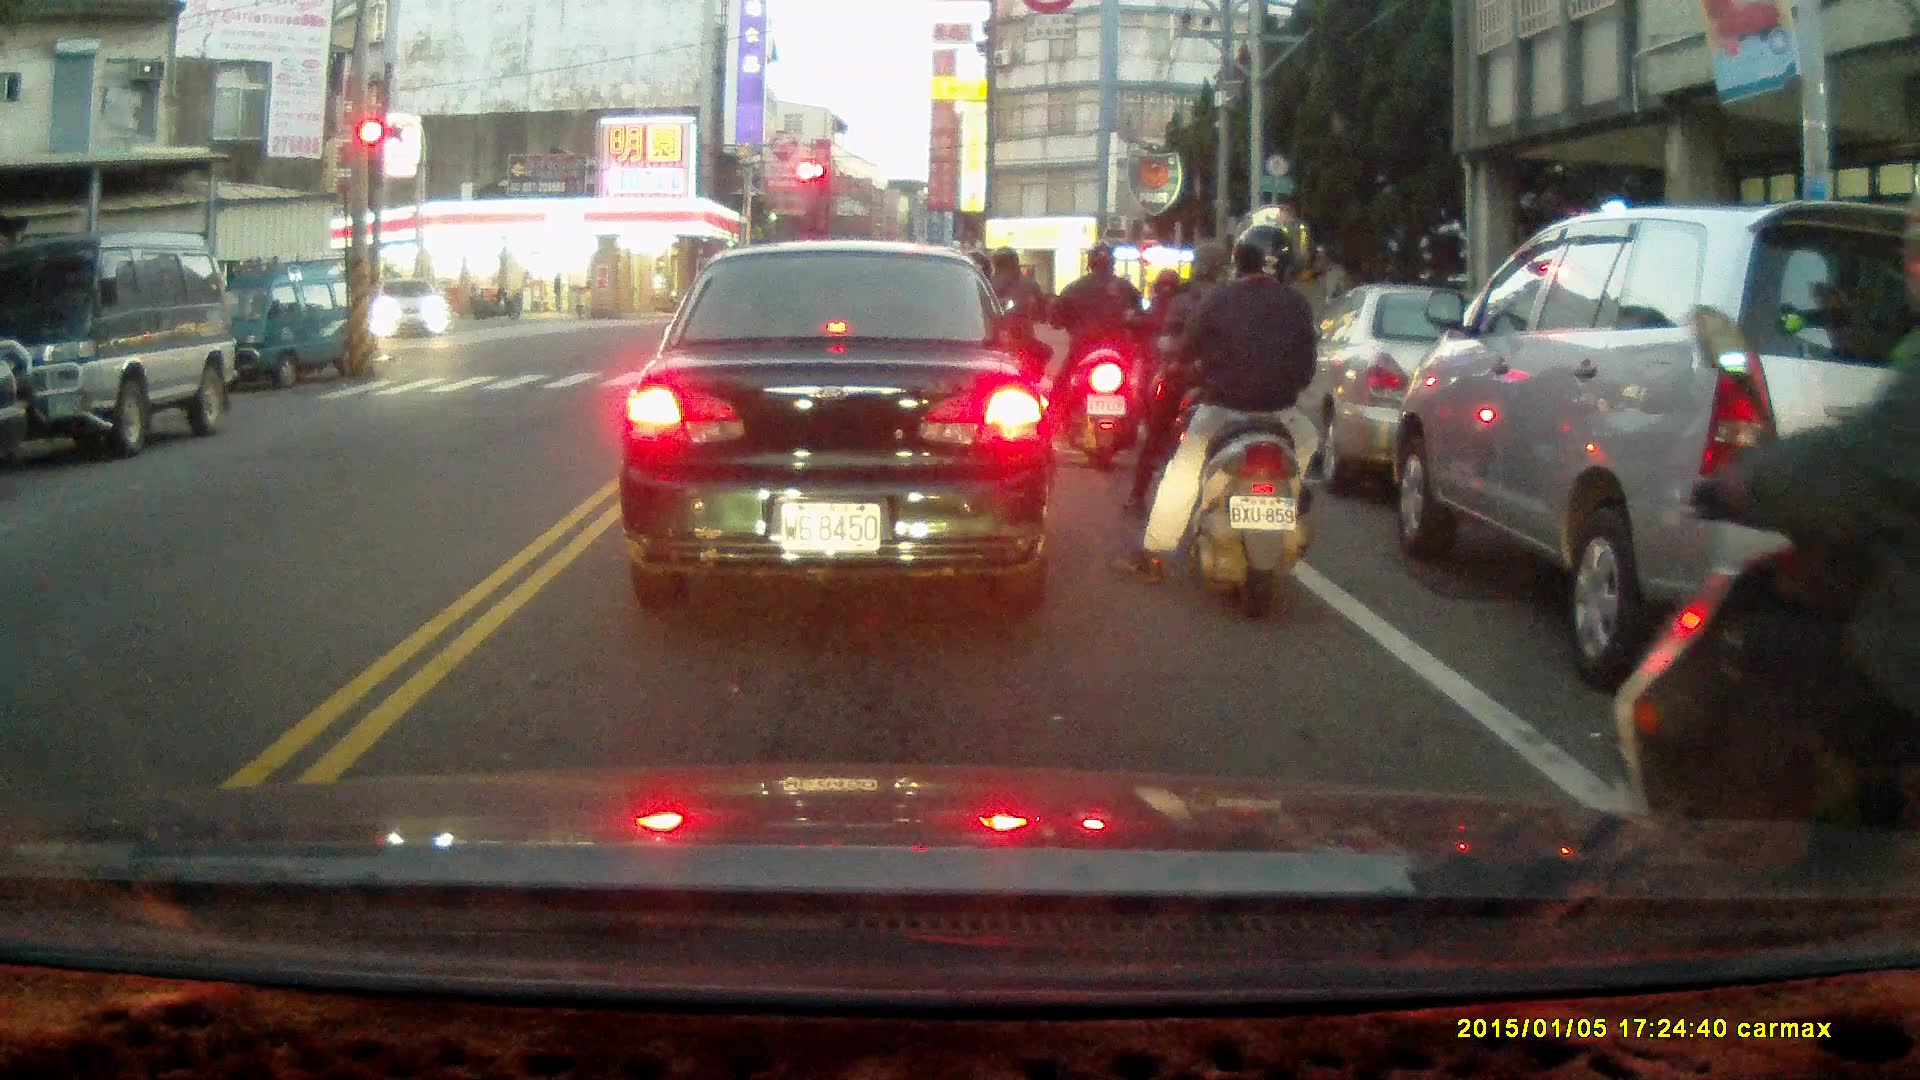rider: (1630, 236, 1920, 877), (1116, 226, 1318, 615), (1122, 237, 1259, 542), (1048, 244, 1142, 469), (967, 244, 1052, 436), (1132, 267, 1203, 449)
vehicle: (1391, 195, 1920, 685), (617, 243, 1061, 606), (1281, 284, 1605, 499), (1, 234, 239, 458), (194, 255, 381, 393), (372, 277, 451, 343)
